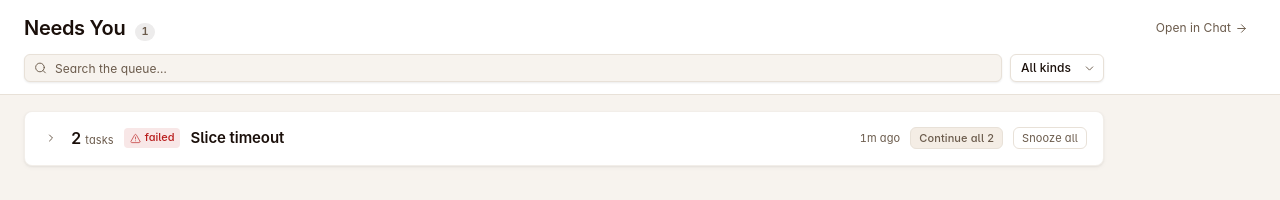
Test case: TriageCauseGroupRow – Snooze all › reports a success/failure count on partial bulk failure without HTTP details
Click the button with test id "cause-group-snooze-all": coordinates (1050, 138) x1=1013 y1=127 x2=1087 y2=149
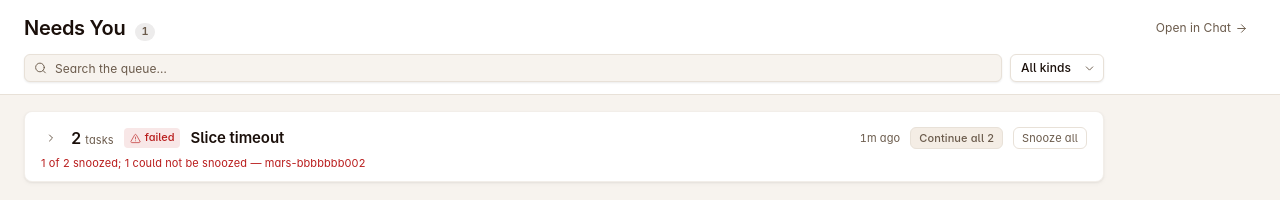
Expected: the text with test id "cause-group-error" shows "1 of 2 snoozed", x1=41 y1=156 x2=366 y2=170
Expected: the text with test id "cause-group-error" shows "1 could not be snoozed", x1=41 y1=156 x2=366 y2=170
Expected: the text with test id "cause-group-error" shows "mars-bbbbbbb002", x1=41 y1=156 x2=366 y2=170
